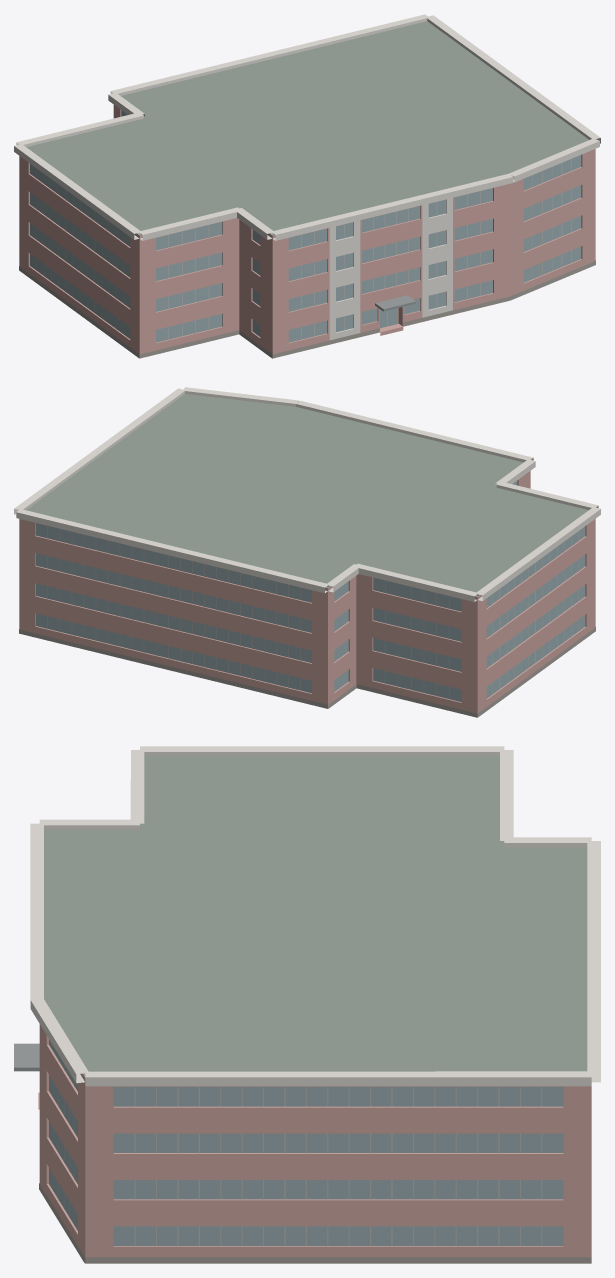
The picture shows the model from 3 angles, top to bottom: view 1: azimuth 30°, elevation 25°; view 2: azimuth 150°, elevation 25°; view 3: azimuth 270°, elevation 25°; orthographic projection. The views are drawn at different scales.
Visible parts, largest first — view 1: b115951753__roof, b115951753__wall, b115951753__glass, b115951753__trim, b115951753__wall2, b115951753__base, b115951753__frame; view 2: b115951753__roof, b115951753__wall, b115951753__glass, b115951753__trim, b115951753__base, b115951753__frame; view 3: b115951753__roof, b115951753__wall, b115951753__glass, b115951753__trim, b115951753__base, b115951753__frame, b115951753__canopy.
Boxes of the visible parts, x1,y1,x2,y2 form: b115951753__roof: (26,21,588,358); b115951753__wall: (19,105,595,358); b115951753__glass: (30,110,581,342); b115951753__trim: (14,14,600,240); b115951753__wall2: (329,197,452,340); b115951753__base: (19,260,595,358); b115951753__frame: (36,158,571,339); b115951753__roof: (26,394,588,596); b115951753__wall: (19,471,595,717); b115951753__glass: (36,481,585,701); b115951753__trim: (14,387,600,601); b115951753__base: (19,627,595,717); b115951753__frame: (47,526,578,699); b115951753__roof: (44,756,587,1077); b115951753__wall: (39,1024,591,1262); b115951753__glass: (49,1039,563,1245); b115951753__trim: (30,746,600,1086); b115951753__base: (39,1183,591,1263); b115951753__frame: (58,1055,542,1245); b115951753__canopy: (14,1043,39,1071).
Size of the model in its own units: 55.04 by 15.15 by 41.25.
